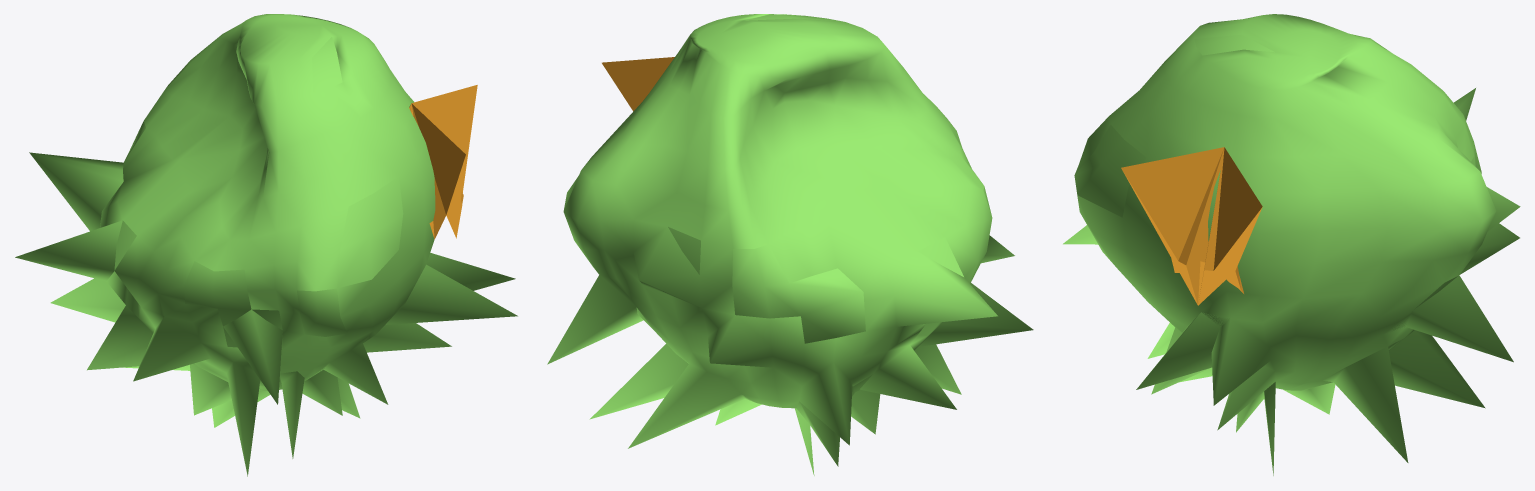
The picture shows the model from 3 angles, left to right: view 1: azimuth 30°, elevation 25°; view 2: azimuth 150°, elevation 25°; view 3: azimuth 270°, elevation 25°; orthographic projection. The views are drawn at different scales.
Visible parts, largest first — view 1: Sphere, Cone; view 2: Sphere, Cone; view 3: Sphere, Cone.
Boxes of the visible parts, box(x1,y1,x2,y2) form: Sphere: box(15, 14, 517, 476); Cone: box(409, 85, 477, 239); Sphere: box(547, 14, 1033, 475); Cone: box(602, 57, 674, 111); Sphere: box(1063, 14, 1520, 475); Cone: box(1121, 147, 1262, 305).
Size of the model in its own units: 3.49 by 3.02 by 3.02.
